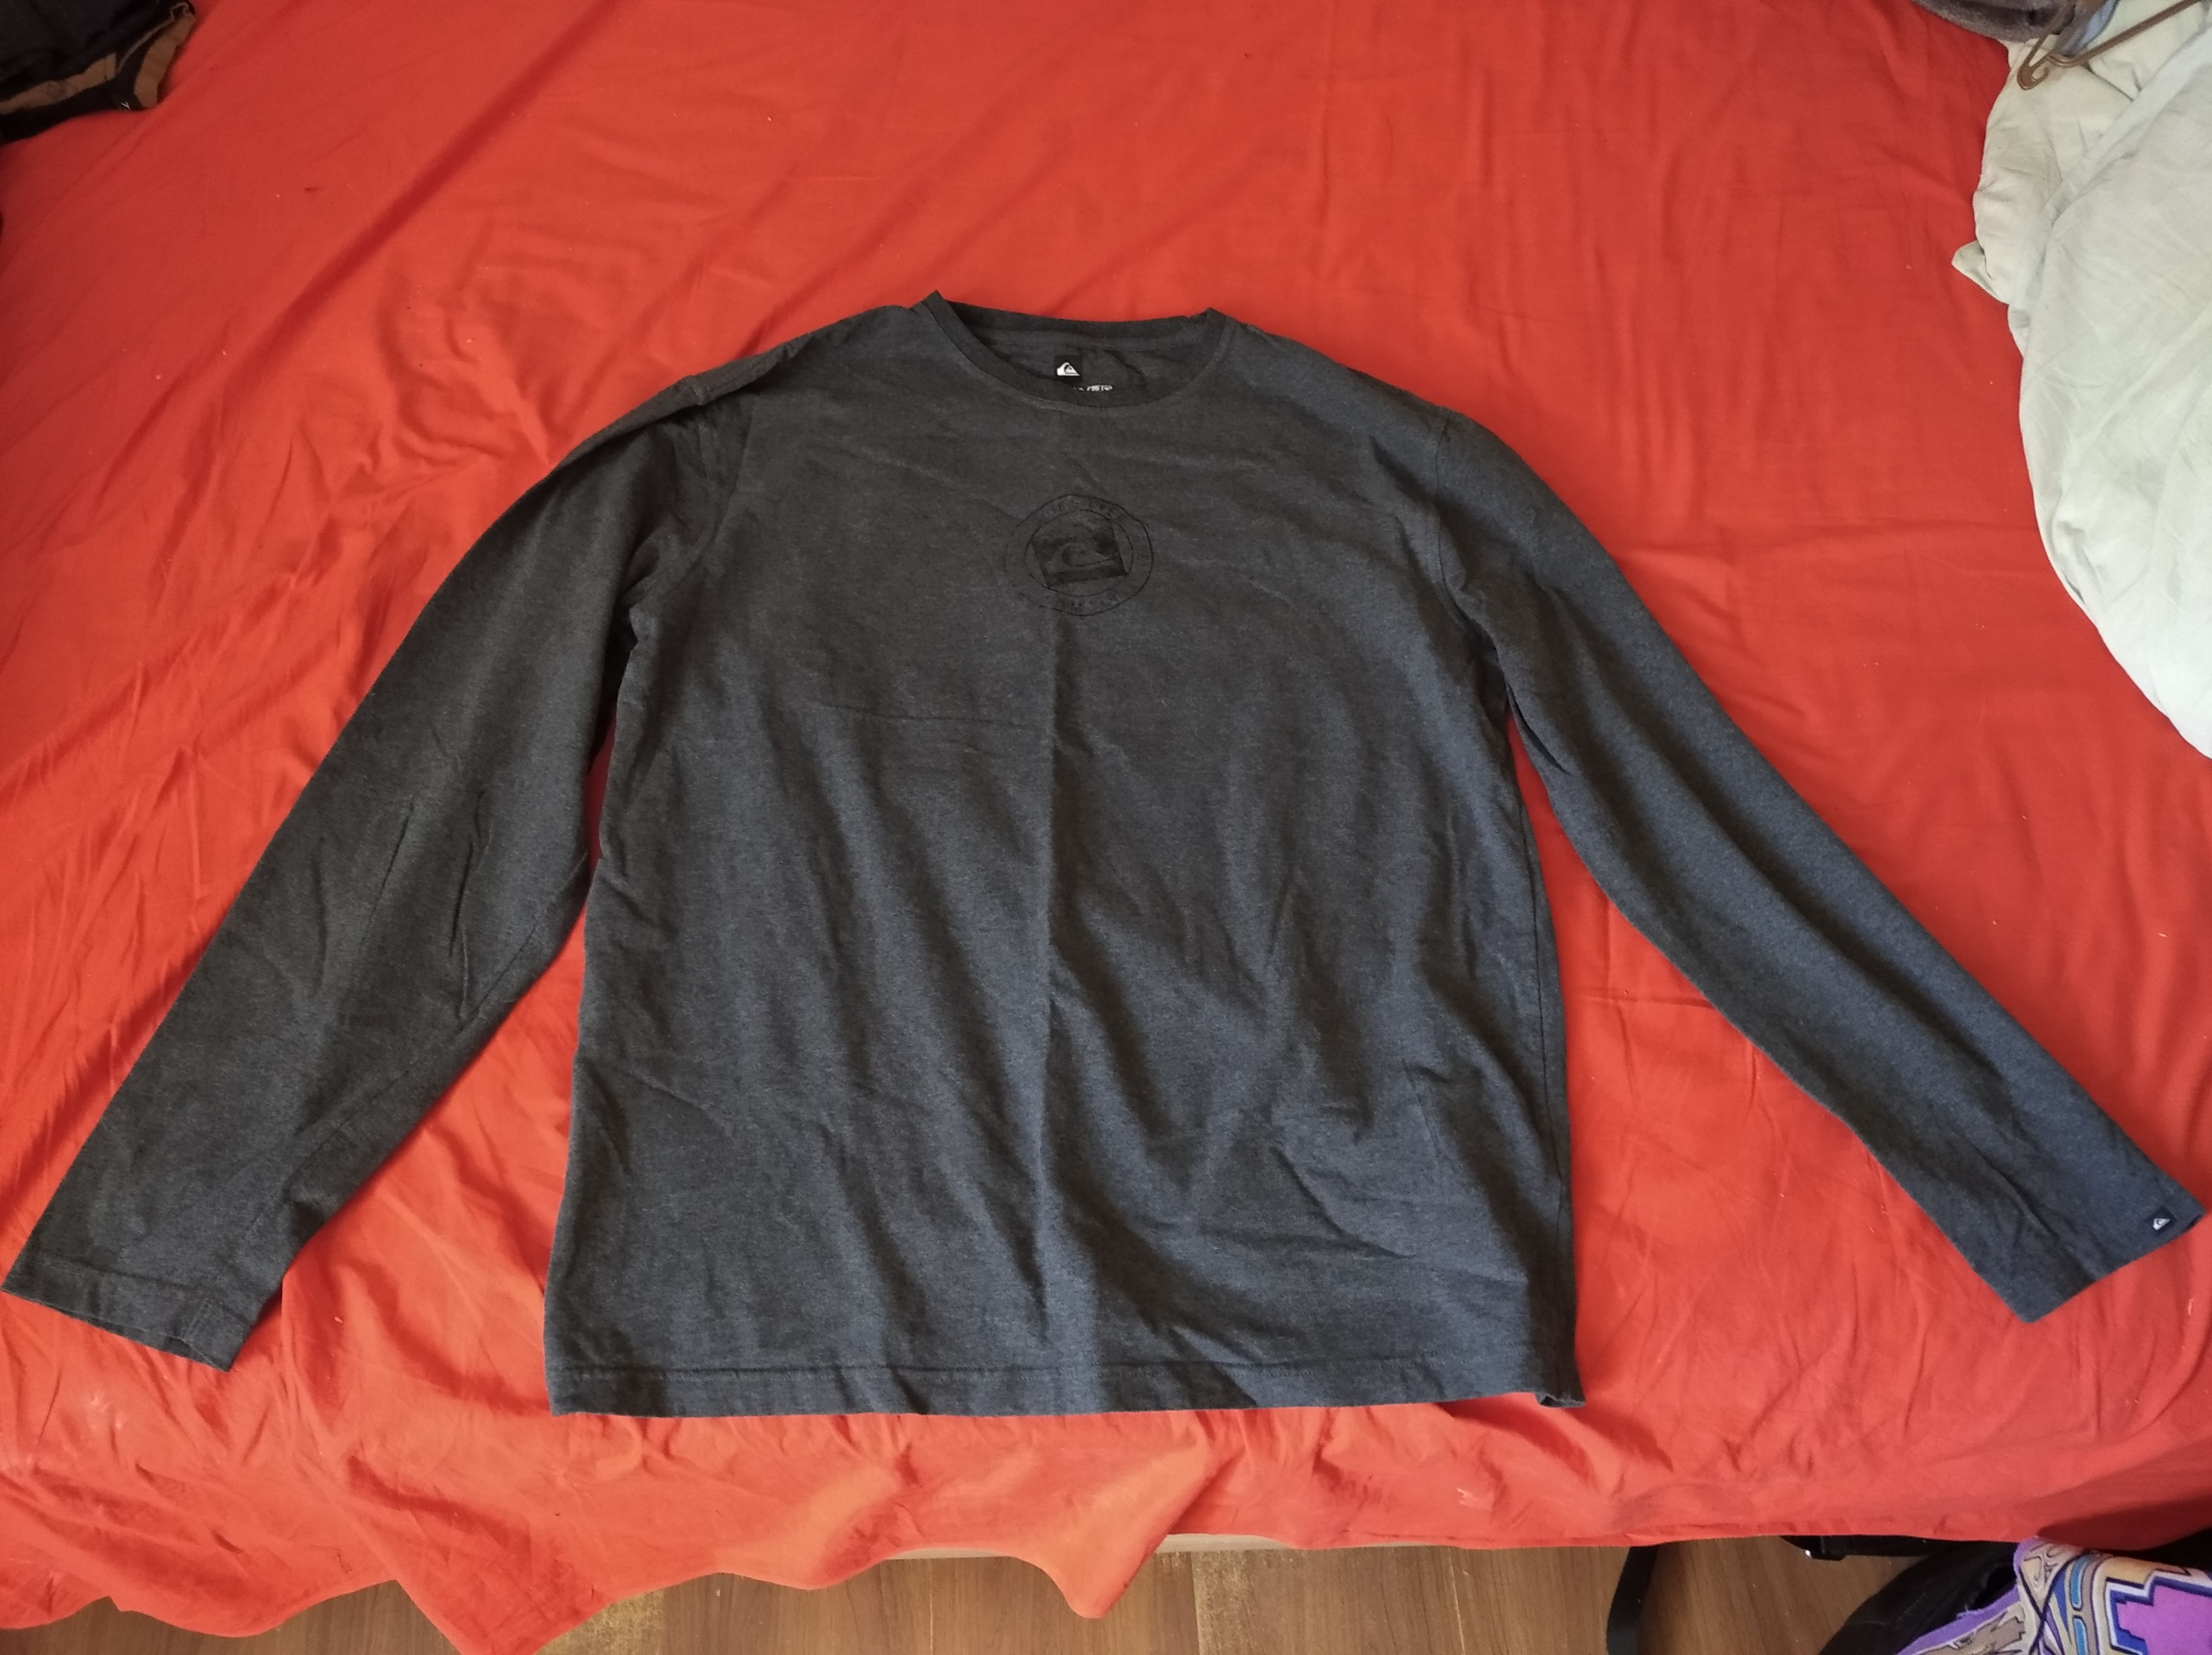clothes: (16, 296, 2205, 1417)
